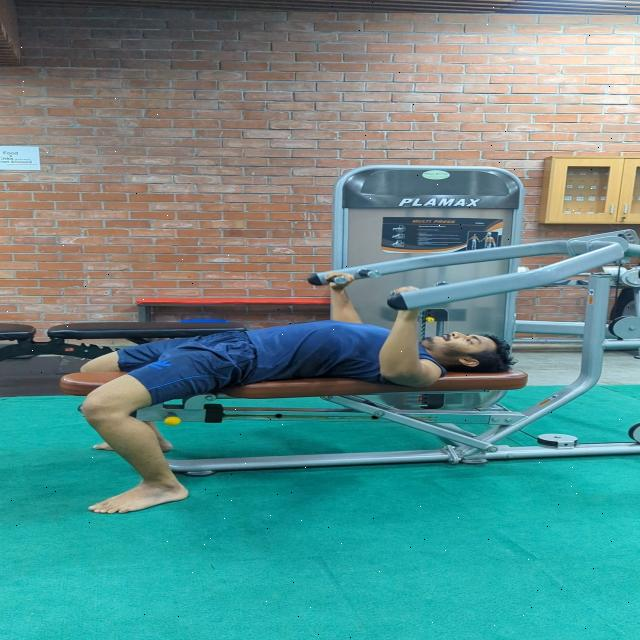Normal_BrenchPress: (40, 234, 543, 539)
